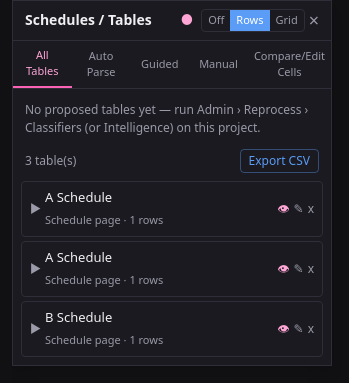
Test: W1 retained ParsedRegion deletion › keeps demo deletion local, removes every duplicate target id, retains siblings, and performs zero transport
Click the 1st button titled "Delete table": {"x": 311, "y": 208} [308, 200, 314, 218]
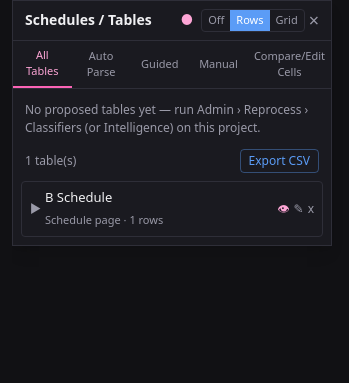
Result: the text "A Schedule" is gone
